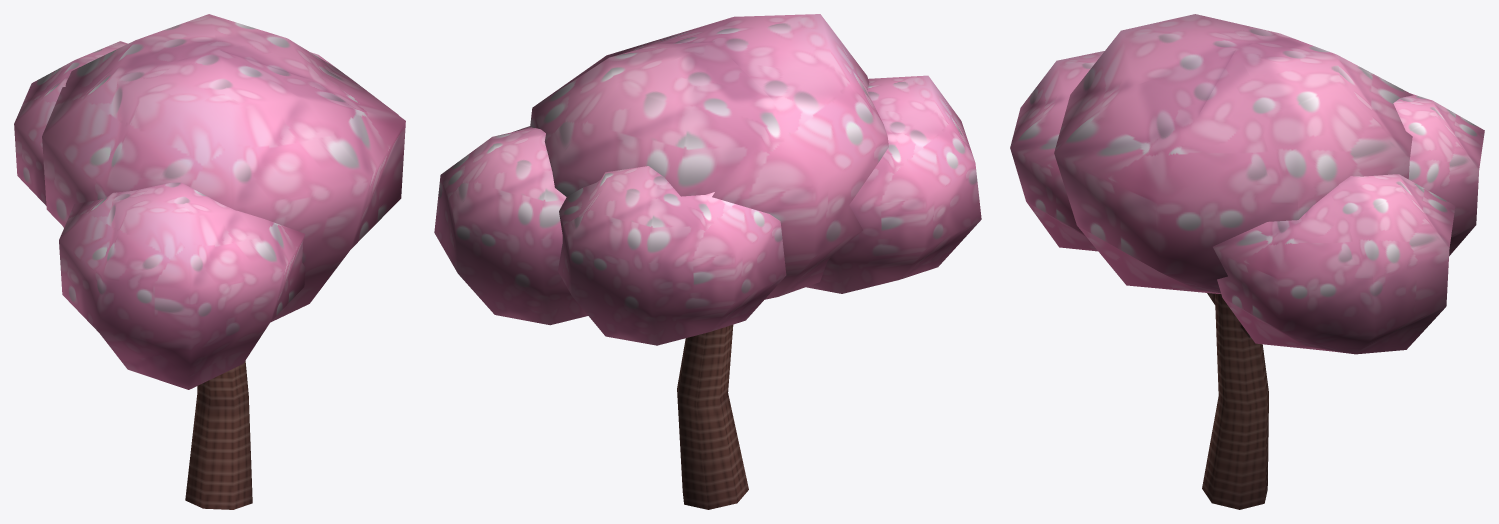
Rendered from cherry_blossom.obj.
3 renders of one model, left to right at view 1: azimuth 30°, elevation 25°; view 2: azimuth 150°, elevation 25°; view 3: azimuth 270°, elevation 25°, orthographic. The views are drawn at different scales.
Visible parts, largest first — view 1: CherryBlossom; view 2: CherryBlossom; view 3: CherryBlossom.
Boxes of the visible parts, x1,y1,x2,y2 form: CherryBlossom: [14, 14, 405, 509]; CherryBlossom: [434, 14, 981, 509]; CherryBlossom: [1010, 14, 1484, 509].
Size of the model in its own units: 4.54 by 4.91 by 4.73.
1 material, 1 textured.
